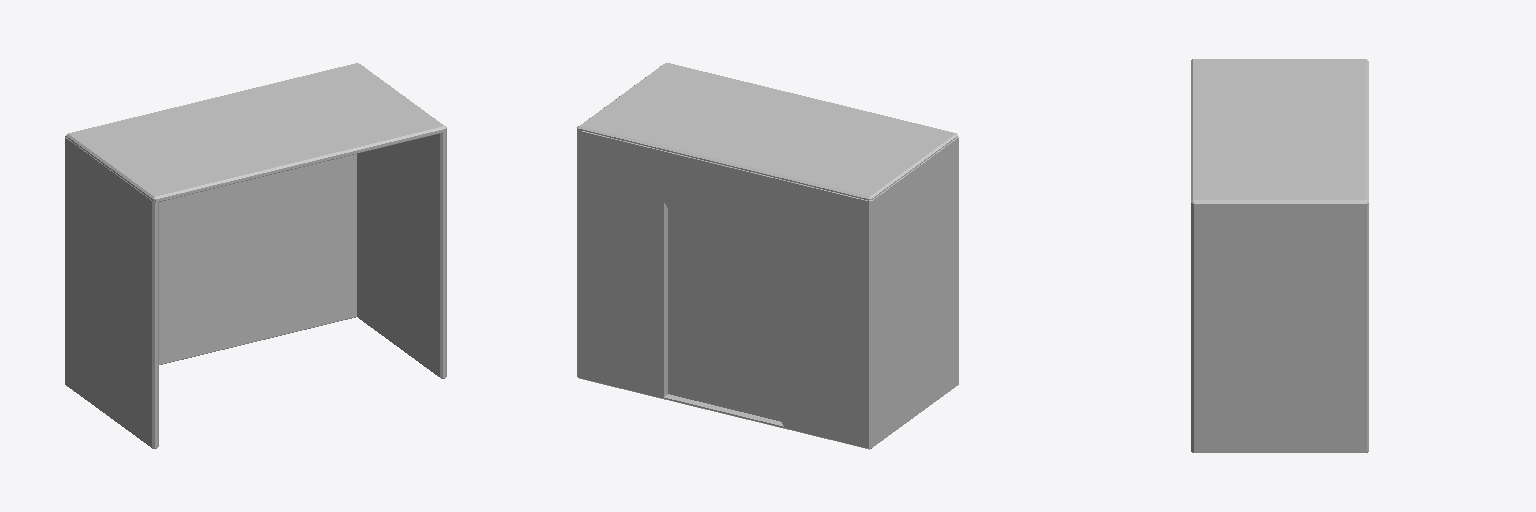
Rendered from cubo externo.obj.
The picture shows the model from 3 angles: view 1: azimuth 30°, elevation 25°; view 2: azimuth 150°, elevation 25°; view 3: azimuth 270°, elevation 25°; orthographic projection.
Visible parts, largest first — view 1: pCube26; view 2: pCube26; view 3: pCube26.
Part boxes in pixels (x1,y1,x2,y2): pCube26: (65,63,446,448); pCube26: (577,63,958,449); pCube26: (1191,59,1368,452).
Size of the model in its own units: 91.78 by 75.1 by 48.19.